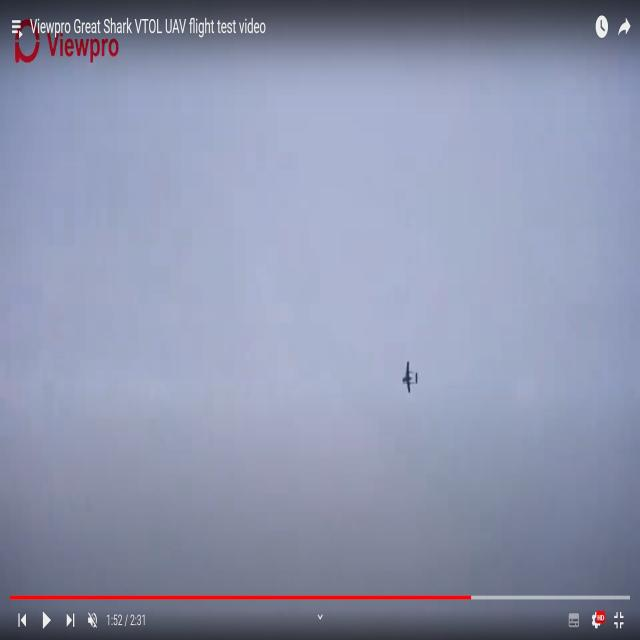iha: (401, 361, 419, 393)
